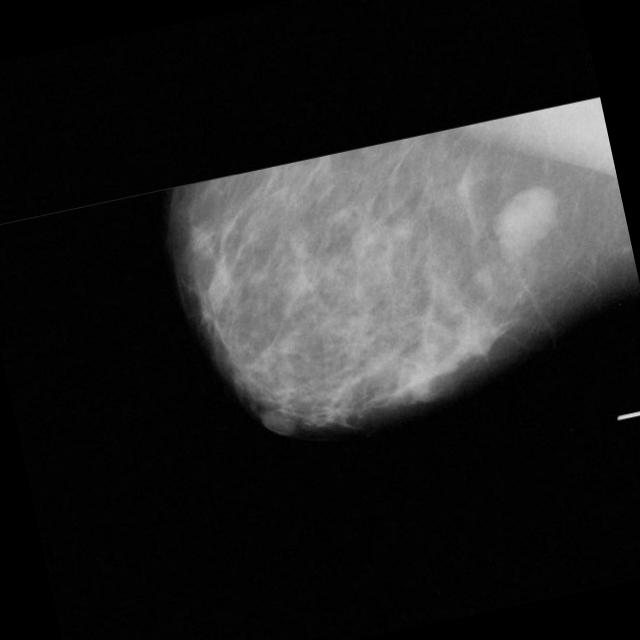CIRC: (474, 173, 574, 274)
